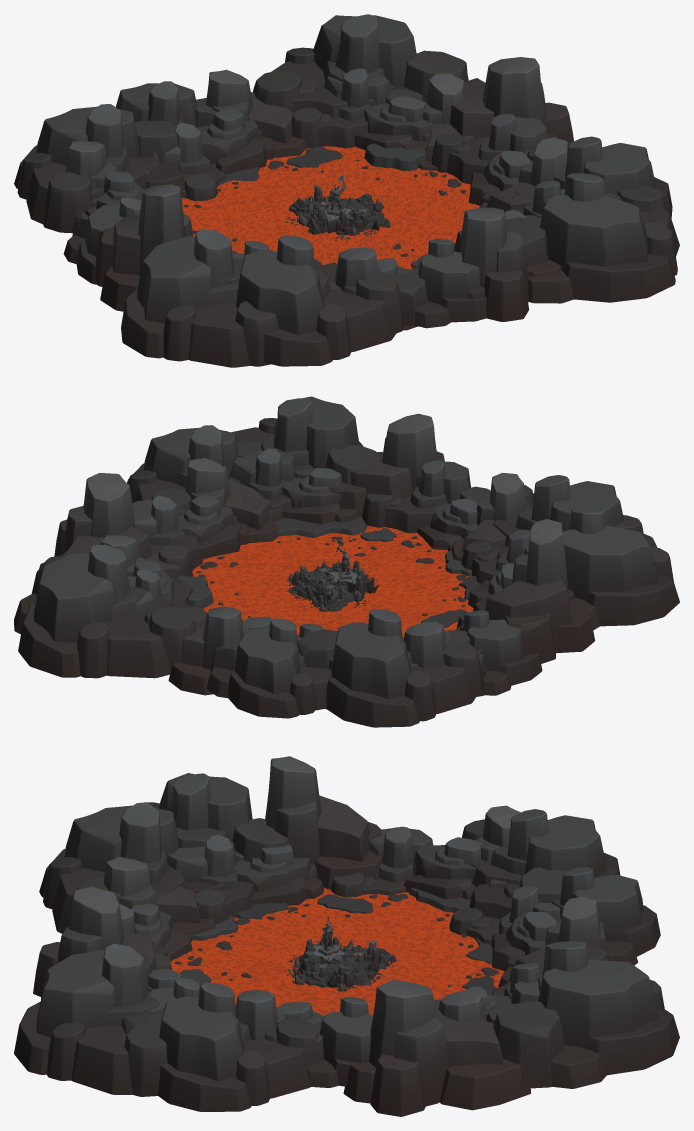
The model's file is Inferno_World_free.glb.
The picture shows the model from 3 angles, top to bottom: view 1: azimuth 30°, elevation 25°; view 2: azimuth 150°, elevation 25°; view 3: azimuth 270°, elevation 25°; orthographic projection. The views are drawn at different scales.
Visible parts, largest first — view 1: Cliff_003.014, Cliff_003.009, Cliff_003.008, Lava_01, Cliff_003.010, Cliff_003.011, Lava_02, Cliff_004.005, Cliff_004.007, Cliff_004.008, Cliff_003.006, Cliff_003.003 (+17 smaller); view 2: Cliff_003.011, Cliff_003.010, Lava_01, Cliff_003.009, Lava_02, Cliff_004.007, Cliff_003.012, Cliff_003.014, Cliff_003.013, Cliff_004.005, Cliff_004.008, Cliff_003.006 (+18 smaller); view 3: Cliff_003.011, Cliff_003.014, Cliff_004.008, Cliff_003.013, Lava_01, Lava_02, Cliff_003.008, Cliff_003.010, Cliff_004.007, Cliff_003.009, Cliff_003.012, Cliff_004.005 (+20 smaller).
Boxes of the visible parts, x1=… form: Cliff_003.014: x1=505, y1=173, x2=679, y2=303; Cliff_003.009: x1=121, y1=229, x2=278, y2=367; Cliff_003.008: x1=228, y1=235, x2=404, y2=366; Lava_01: x1=181, y1=146, x2=480, y2=269; Cliff_003.010: x1=14, y1=104, x2=185, y2=233; Cliff_003.011: x1=252, y1=14, x2=468, y2=117; Lava_02: x1=182, y1=146, x2=478, y2=268; Cliff_004.005: x1=454, y1=207, x2=561, y2=321; Cliff_004.007: x1=95, y1=184, x2=192, y2=311; Cliff_004.008: x1=424, y1=57, x2=573, y2=144; Cliff_003.006: x1=393, y1=239, x2=486, y2=328; Cliff_003.003: x1=292, y1=68, x2=423, y2=148; Cliff_003.011: x1=14, y1=544, x2=196, y2=678; Cliff_003.010: x1=297, y1=609, x2=484, y2=727; Lava_01: x1=192, y1=525, x2=473, y2=637; Cliff_003.009: x1=562, y1=507, x2=679, y2=630; Lava_02: x1=192, y1=526, x2=473, y2=637; Cliff_004.007: x1=481, y1=519, x2=594, y2=663; Cliff_003.012: x1=206, y1=618, x2=333, y2=718; Cliff_003.014: x1=226, y1=396, x2=378, y2=507; Cliff_003.013: x1=127, y1=425, x2=262, y2=512; Cliff_004.005: x1=329, y1=413, x2=444, y2=516; Cliff_004.008: x1=39, y1=473, x2=152, y2=568; Cliff_003.006: x1=362, y1=460, x2=490, y2=533; Cliff_003.011: x1=485, y1=941, x2=679, y2=1088; Cliff_003.014: x1=14, y1=943, x2=167, y2=1096; Cliff_004.008: x1=343, y1=979, x2=530, y2=1116; Cliff_003.013: x1=121, y1=982, x2=320, y2=1111; Lava_01: x1=171, y1=887, x2=504, y2=1016; Lava_02: x1=170, y1=888, x2=504, y2=1015; Cliff_003.008: x1=39, y1=802, x2=226, y2=933; Cliff_003.010: x1=462, y1=809, x2=620, y2=918; Cliff_004.007: x1=265, y1=756, x2=382, y2=889; Cliff_003.009: x1=144, y1=773, x2=288, y2=862; Cliff_003.012: x1=551, y1=867, x2=660, y2=965; Cliff_004.005: x1=33, y1=886, x2=170, y2=996.
Bounding box in the file's own units: 881 × 180 × 872.
Materials: 6 (6 with a texture image).
